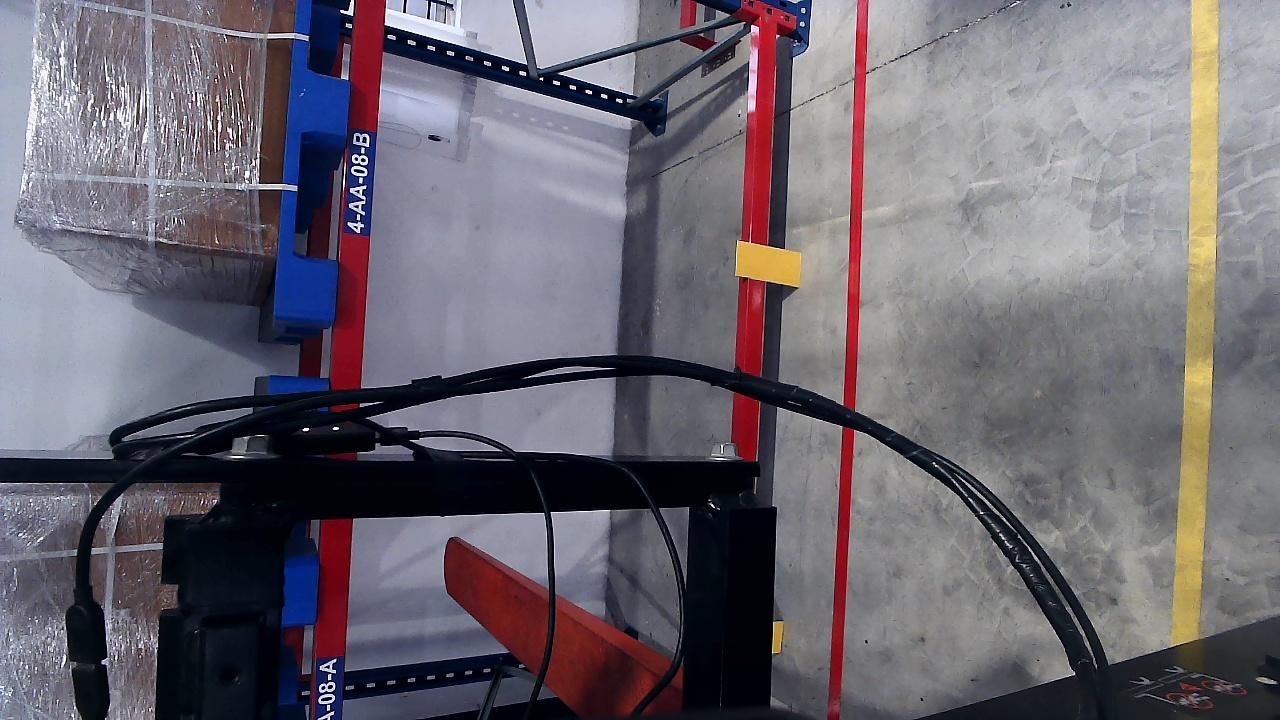h_rack: (329, 0, 390, 387), (742, 16, 780, 354), (310, 511, 357, 719)
orange_strip: (735, 241, 801, 287)
red_line: (842, 3, 868, 406), (825, 422, 857, 713)
small_pallet: (270, 1, 363, 318)
yellow_line: (1171, 84, 1219, 649)
